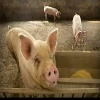heo: (18, 26, 59, 88), (69, 12, 87, 47), (43, 4, 62, 22)
